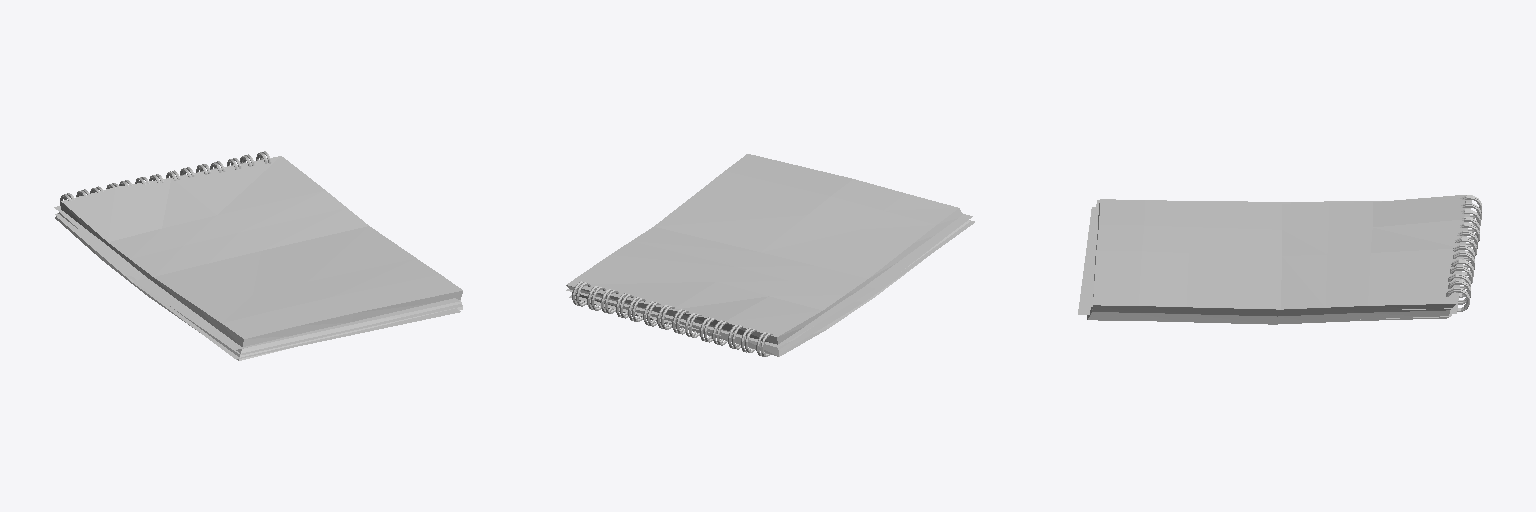
Rendered from notepad.obj.
The picture shows the model from 3 angles: view 1: azimuth 30°, elevation 25°; view 2: azimuth 150°, elevation 25°; view 3: azimuth 270°, elevation 25°; orthographic projection.
Parts seen in each view (by area): view 1: Notepad_LP; view 2: Notepad_LP; view 3: Notepad_LP.
Boxes of the visible parts, x1,y1,x2,y2 form: Notepad_LP: [54, 151, 462, 360]; Notepad_LP: [566, 154, 974, 356]; Notepad_LP: [1078, 195, 1481, 324].
Bounding box in the file's own units: 0.2118 × 0.026 × 0.325.